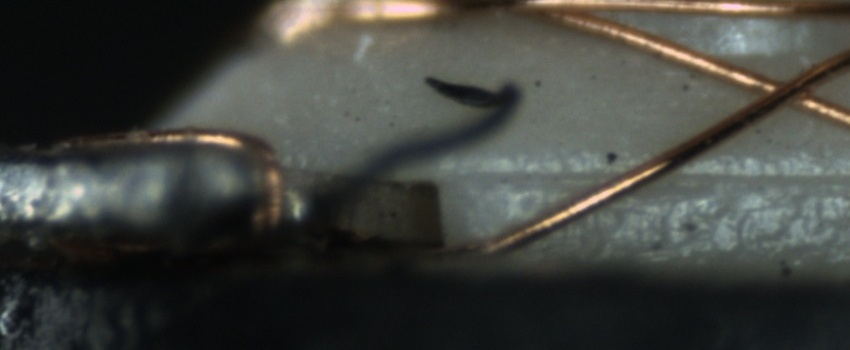CL: (742, 62, 837, 118)
DL: (441, 153, 849, 200)
TE: (47, 120, 284, 238)
